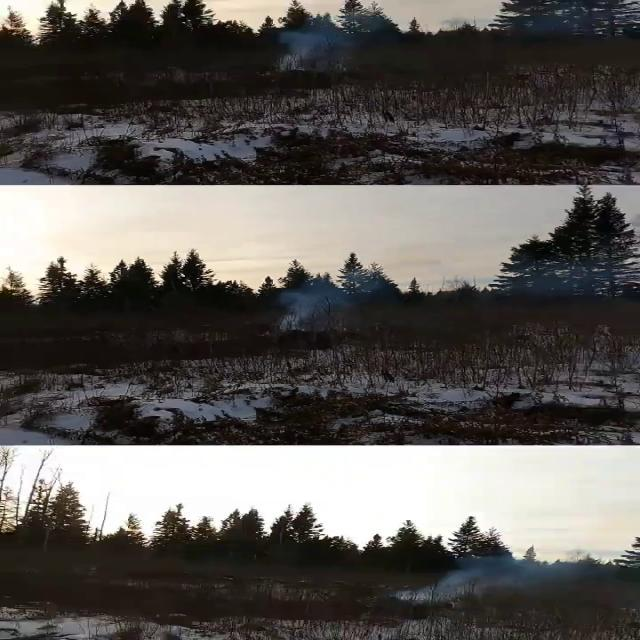Smoke: (424, 554, 526, 600), (274, 22, 352, 72), (273, 280, 349, 330)
